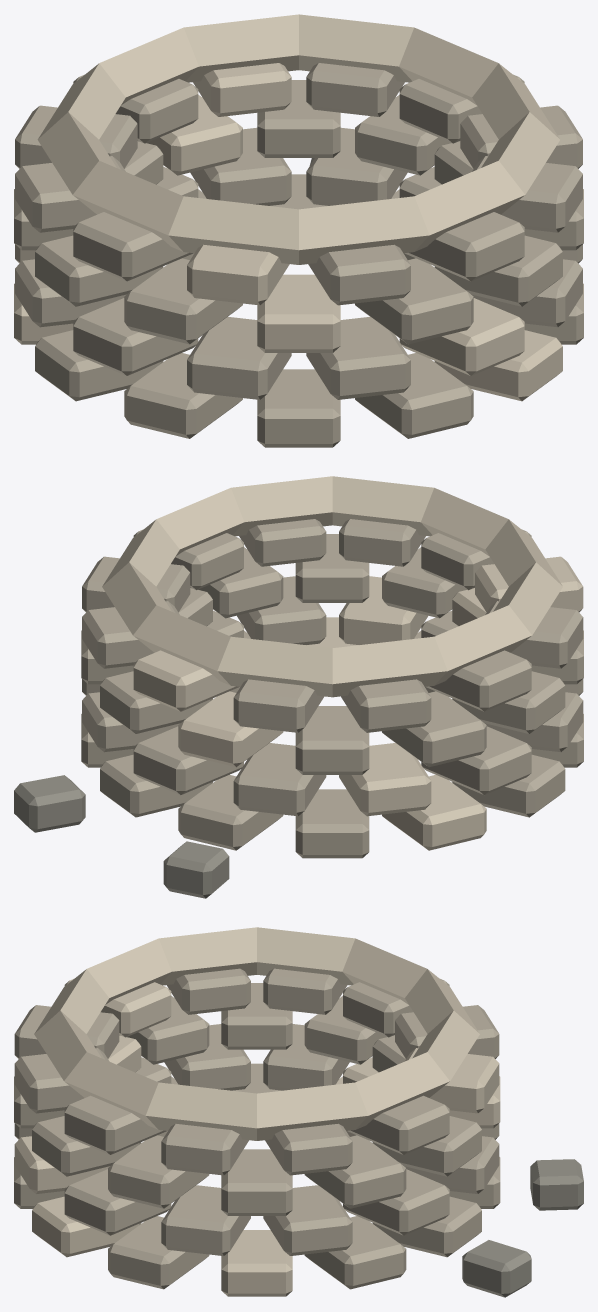
The model's file is runtime.glb.
3 renders of one model, top to bottom at view 1: azimuth 30°, elevation 25°; view 2: azimuth 150°, elevation 25°; view 3: azimuth 270°, elevation 25°, orthographic. The views are drawn at different scales.
Parts seen in each view (by area): view 1: falkenwacht-stone-well-v01_nocol; view 2: falkenwacht-stone-well-v01_nocol; view 3: falkenwacht-stone-well-v01_nocol.
Boxes of the visible parts, bbox=[...] form: falkenwacht-stone-well-v01_nocol: bbox=[14, 14, 583, 447]; falkenwacht-stone-well-v01_nocol: bbox=[14, 476, 583, 898]; falkenwacht-stone-well-v01_nocol: bbox=[14, 927, 583, 1297].
Size of the model in its own units: 2.59 by 1.18 by 3.04.
